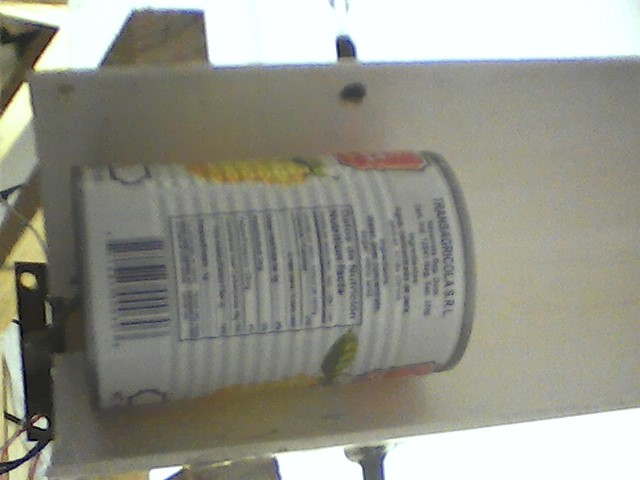lata: (64, 145, 491, 424)
